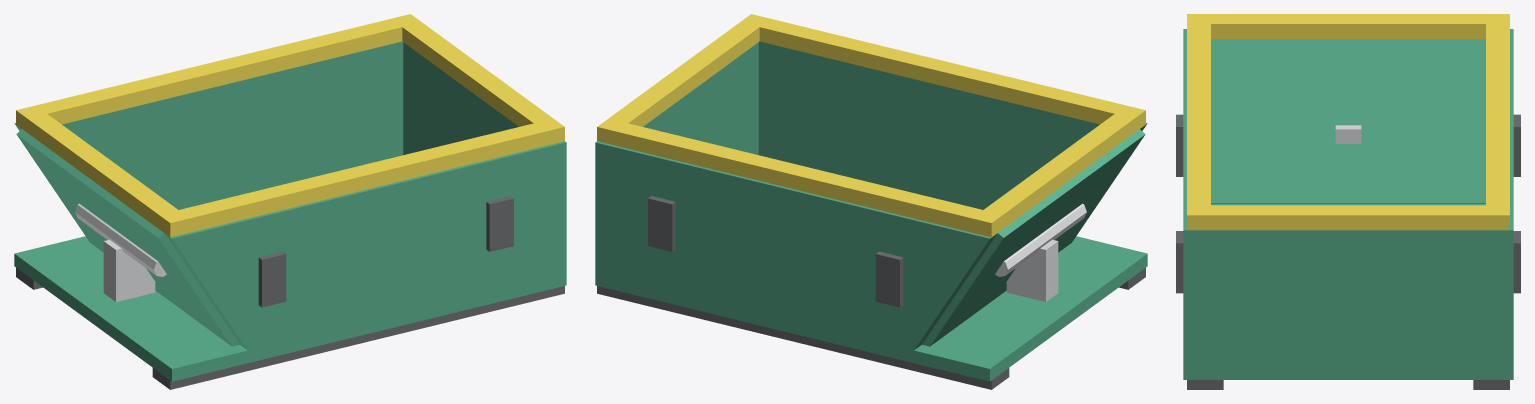
The model's file is recycling-and-waste-transfer-yard-recycling-and-waste--15952d99__34893.glb.
3 renders of one model, left to right at view 1: azimuth 30°, elevation 25°; view 2: azimuth 150°, elevation 25°; view 3: azimuth 270°, elevation 25°, orthographic. The views are drawn at different scales.
Parts seen in each view (by area): view 1: recycling-and-waste-transfer-yard-open-top-skip-small; view 2: recycling-and-waste-transfer-yard-open-top-skip-small; view 3: recycling-and-waste-transfer-yard-open-top-skip-small.
Boxes of the visible parts, box(x1,y1,x2,y2) form: recycling-and-waste-transfer-yard-open-top-skip-small: box(14, 14, 566, 389); recycling-and-waste-transfer-yard-open-top-skip-small: box(595, 14, 1147, 389); recycling-and-waste-transfer-yard-open-top-skip-small: box(1176, 14, 1520, 389).
Size of the model in its own units: 2.64 by 1.05 by 1.88.
